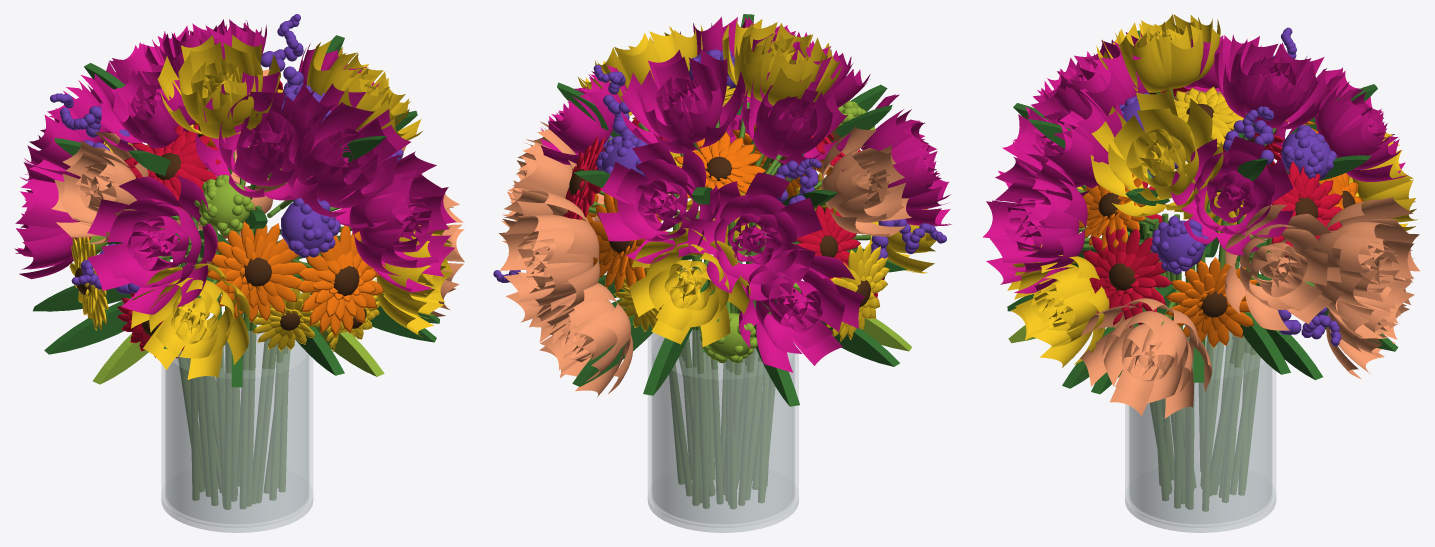
The model's file is bouquet.glb.
3 views of the same model, side by side, from view 1: azimuth 30°, elevation 25°; view 2: azimuth 150°, elevation 25°; view 3: azimuth 270°, elevation 25° (orthographic).
Visible parts, largest first — view 1: vase_wall, vase_wall_inner, water, rose_petal_4_0 (×7), rose_petal_4_6 (×6), rose_petal_3_1 (×5), rose_petal_3_6 (×4), rose_petal_4_1 (×4), rose_petal_3_0 (×4), rose_petal_4_5 (×3), rose_petal_4_4 (×4), rose_petal_3_5 (×4) (+29 smaller); view 2: vase_wall, vase_wall_inner, water, rose_petal_4_4 (×6), rose_petal_4_0 (×6), rose_petal_3_5 (×6), rose_petal_3_0 (×6), rose_petal_4_6 (×6), rose_petal_4_1 (×4), rose_petal_4_5 (×4), rose_petal_3_6 (×4), rose_petal_4_3 (×3) (+25 smaller); view 3: vase_wall, vase_wall_inner, water, rose_petal_4_5 (×8), rose_petal_3_0 (×7), rose_petal_4_6 (×6), rose_petal_3_4 (×6), rose_petal_3_6 (×6), rose_petal_4_0 (×5), rose_petal_4_4 (×6), rose_petal_3_5 (×6), rose_petal_3_1 (×5) (+22 smaller).
Part boxes in pixels (left/top/right/bottom): vase_wall: left=161, top=331, right=312, bottom=532; vase_wall_inner: left=165, top=331, right=308, bottom=524; water: left=166, top=325, right=307, bottom=523; rose_petal_4_0 (×7): left=69, top=42, right=436, bottom=379; rose_petal_4_6 (×6): left=21, top=71, right=410, bottom=364; rose_petal_3_1 (×5): left=108, top=77, right=398, bottom=358; rose_petal_3_6 (×4): left=122, top=43, right=405, bottom=287; rose_petal_4_1 (×4): left=33, top=113, right=237, bottom=369; rose_petal_3_0 (×4): left=15, top=91, right=396, bottom=278; rose_petal_4_5 (×3): left=21, top=83, right=365, bottom=314; rose_petal_4_4 (×4): left=138, top=119, right=400, bottom=307; rose_petal_3_5 (×4): left=59, top=41, right=411, bottom=261; vase_wall: left=648, top=329, right=798, bottom=532; vase_wall_inner: left=652, top=330, right=794, bottom=524; water: left=653, top=332, right=793, bottom=523; rose_petal_4_4 (×6): left=557, top=46, right=870, bottom=346; rose_petal_4_0 (×6): left=617, top=36, right=933, bottom=365; rose_petal_3_5 (×6): left=539, top=37, right=883, bottom=327; rose_petal_3_0 (×6): left=635, top=26, right=947, bottom=331; rose_petal_4_6 (×6): left=629, top=24, right=864, bottom=328; rose_petal_4_1 (×4): left=756, top=109, right=934, bottom=372; rose_petal_4_5 (×4): left=561, top=17, right=854, bottom=312; rose_petal_3_6 (×4): left=539, top=56, right=691, bottom=330; rose_petal_4_3 (×3): left=552, top=67, right=812, bottom=355; vase_wall: left=1125, top=331, right=1275, bottom=532; vase_wall_inner: left=1129, top=332, right=1271, bottom=524; water: left=1130, top=325, right=1270, bottom=523; rose_petal_4_5 (×8): left=995, top=33, right=1381, bottom=386; rose_petal_3_0 (×7): left=1015, top=35, right=1411, bottom=334; rose_petal_4_6 (×6): left=1068, top=47, right=1351, bottom=336; rose_petal_3_4 (×6): left=989, top=167, right=1394, bottom=403; rose_petal_3_6 (×6): left=995, top=25, right=1413, bottom=386; rose_petal_4_0 (×5): left=1058, top=69, right=1410, bottom=351; rose_petal_4_4 (×6): left=1090, top=91, right=1412, bottom=415; rose_petal_3_5 (×6): left=988, top=76, right=1412, bottom=400; rose_petal_3_1 (×5): left=1023, top=41, right=1277, bottom=233.
Bounding box in the file's own units: 0.488 × 0.5577 × 0.4752.
